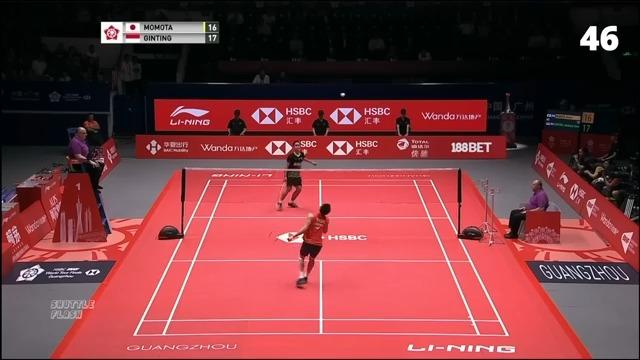Shuttlecock: (339, 90, 348, 99)
